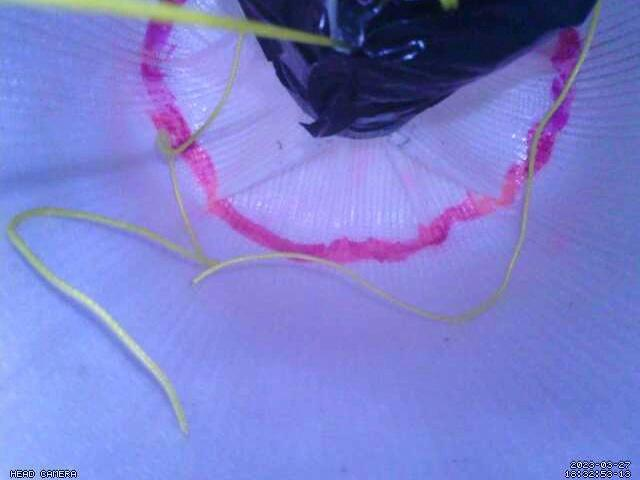head: (138, 20, 581, 265)
